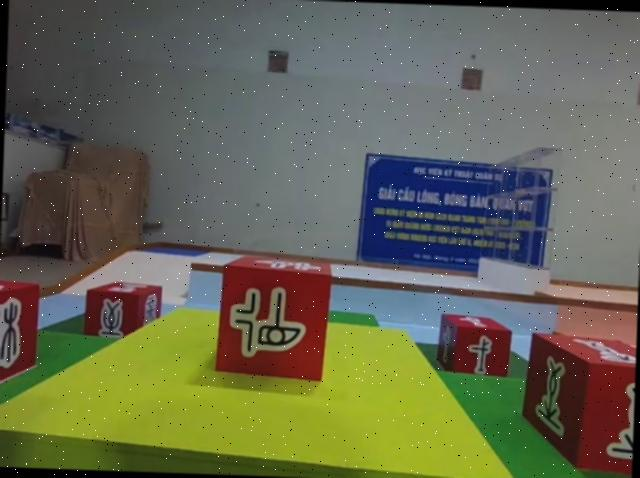R2 Fake: (82, 277, 165, 343), (0, 277, 40, 393)
R2 Real: (516, 329, 637, 478), (213, 251, 334, 385), (434, 310, 514, 380)
